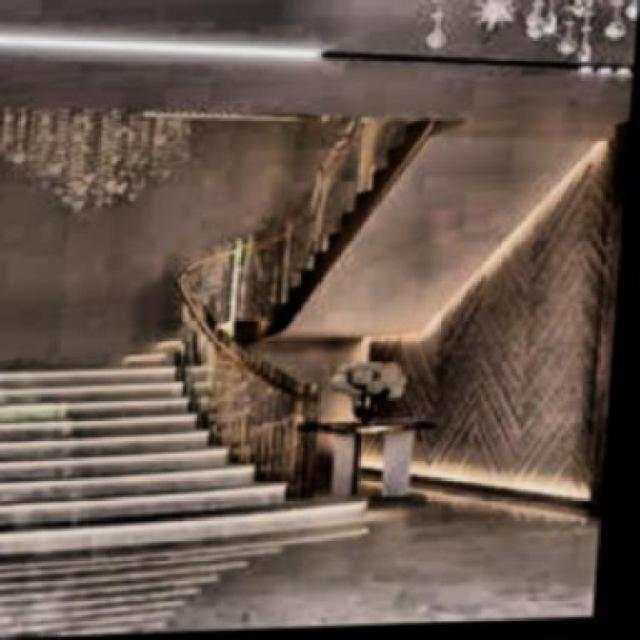stair: (0, 355, 388, 563)
